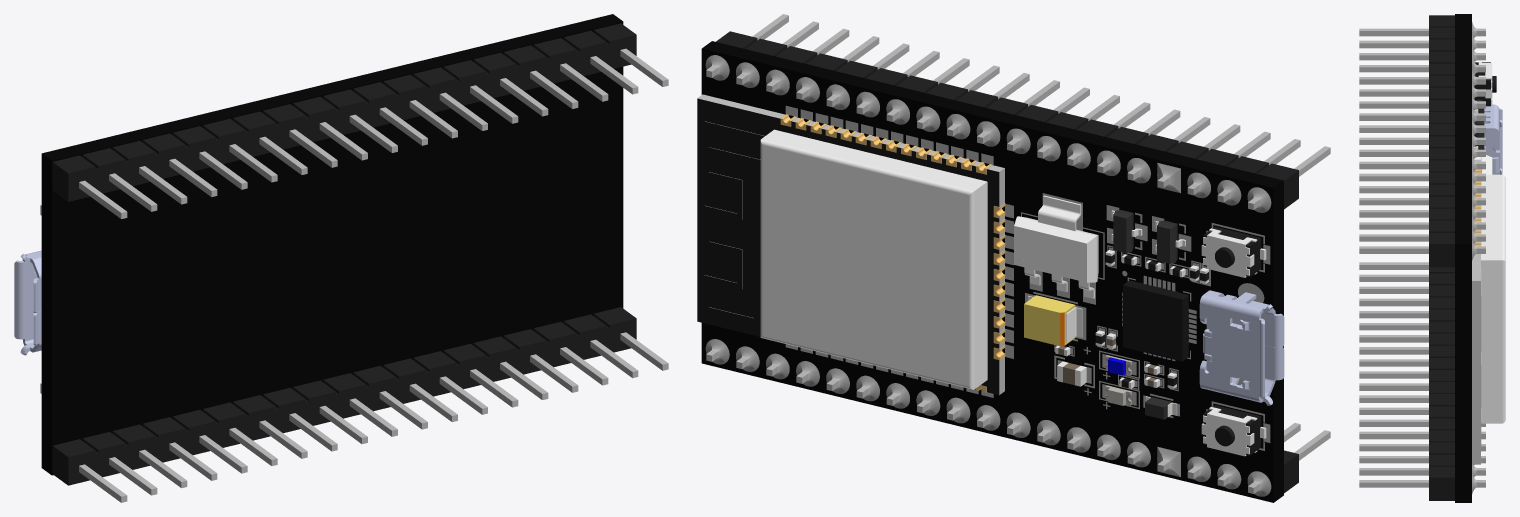
File: esp32.gltf
3 renders of one model, left to right at view 1: azimuth 30°, elevation 25°; view 2: azimuth 150°, elevation 25°; view 3: azimuth 270°, elevation 25°, orthographic. The views are drawn at different scales.
Parts seen in each view (by area): view 1: nodeMCU, Micro USB-B Female 5Pin SMD; view 2: nodeMCU, ESP_Wroom, Micro USB-B Female 5Pin SMD, AMS1117, SILABS, push button001, push button, capp, J3Y_transistor001, J3Y_transistor; view 3: nodeMCU, ESP_Wroom, Micro USB-B Female 5Pin SMD, push button, AMS1117.
Part boxes in pixels (box(x1,y1,x2,y2)): nodeMCU: box(41, 14, 668, 502); Micro USB-B Female 5Pin SMD: box(14, 250, 41, 355); nodeMCU: box(701, 14, 1330, 502); ESP_Wroom: box(697, 94, 1005, 395); Micro USB-B Female 5Pin SMD: box(1199, 290, 1284, 405); AMS1117: box(1014, 195, 1098, 298); SILABS: box(1123, 280, 1188, 361); push button001: box(1201, 405, 1266, 456); push button: box(1201, 226, 1266, 277); capp: box(1024, 295, 1082, 346); J3Y_transistor001: box(1155, 220, 1185, 263); J3Y_transistor: box(1111, 210, 1142, 253); nodeMCU: box(1359, 14, 1485, 502); ESP_Wroom: box(1472, 159, 1505, 464); Micro USB-B Female 5Pin SMD: box(1484, 104, 1502, 174); push button: box(1474, 61, 1496, 106); AMS1117: box(1474, 155, 1492, 174).
Bounding box in the file's own units: 0.049 × 0.0254 × 0.013.
